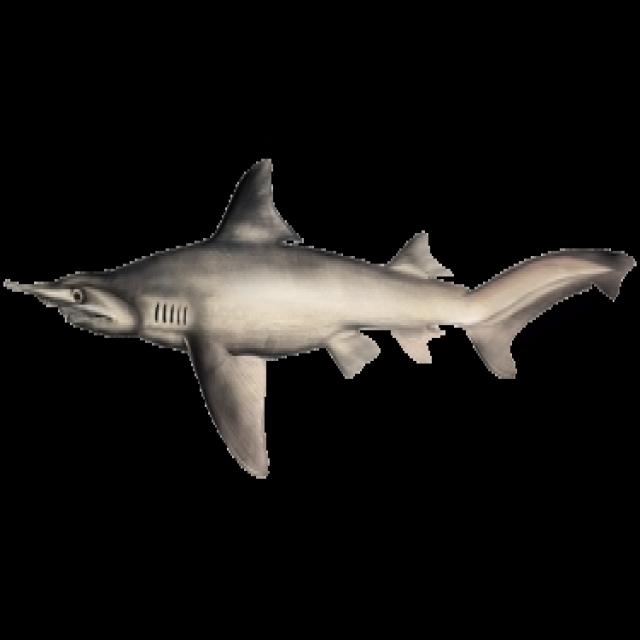gaviota: (5, 159, 633, 476)
